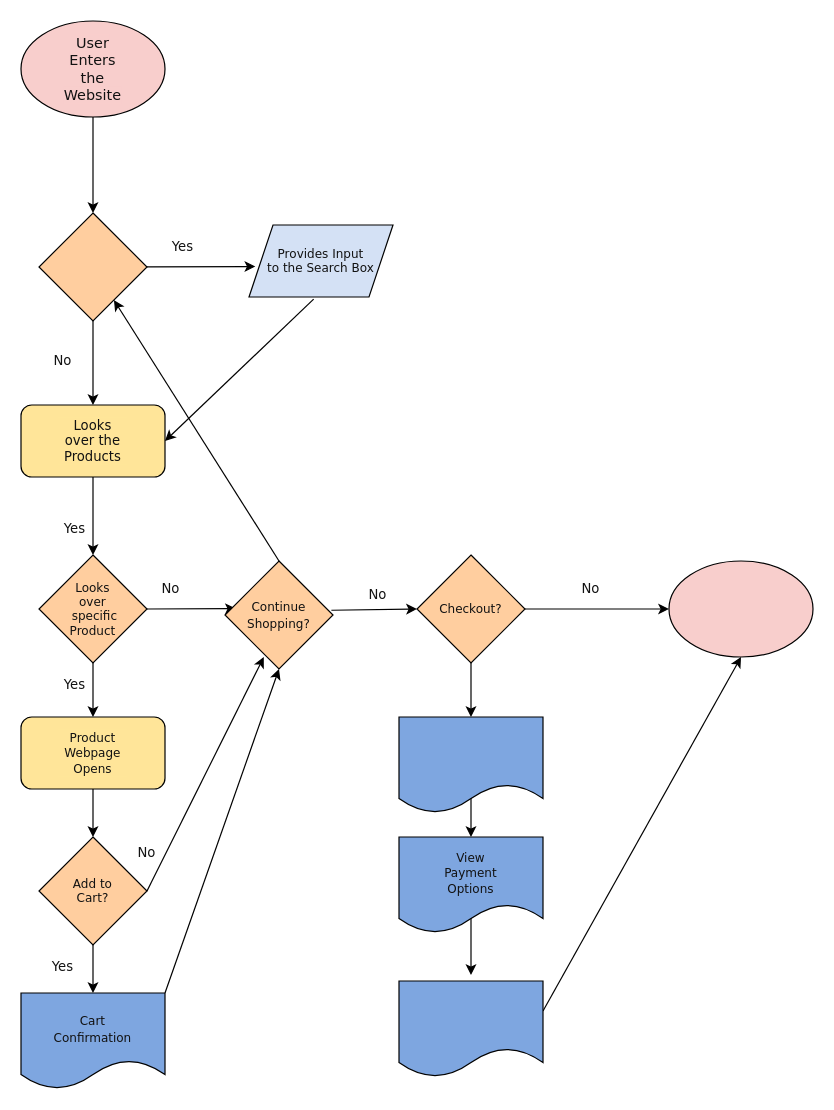
Some shapes in this 834 by 1110 pixel diagram are drawn without their labels. Here are the shapes that lost their labels. From the top down, the centre of each, then its label:
At [92,266]: "Searches for Product".
At [740,608]: "EXIT".
At [470,764]: "View Cart".
At [470,1028]: "Order Confirmation and Emal".
